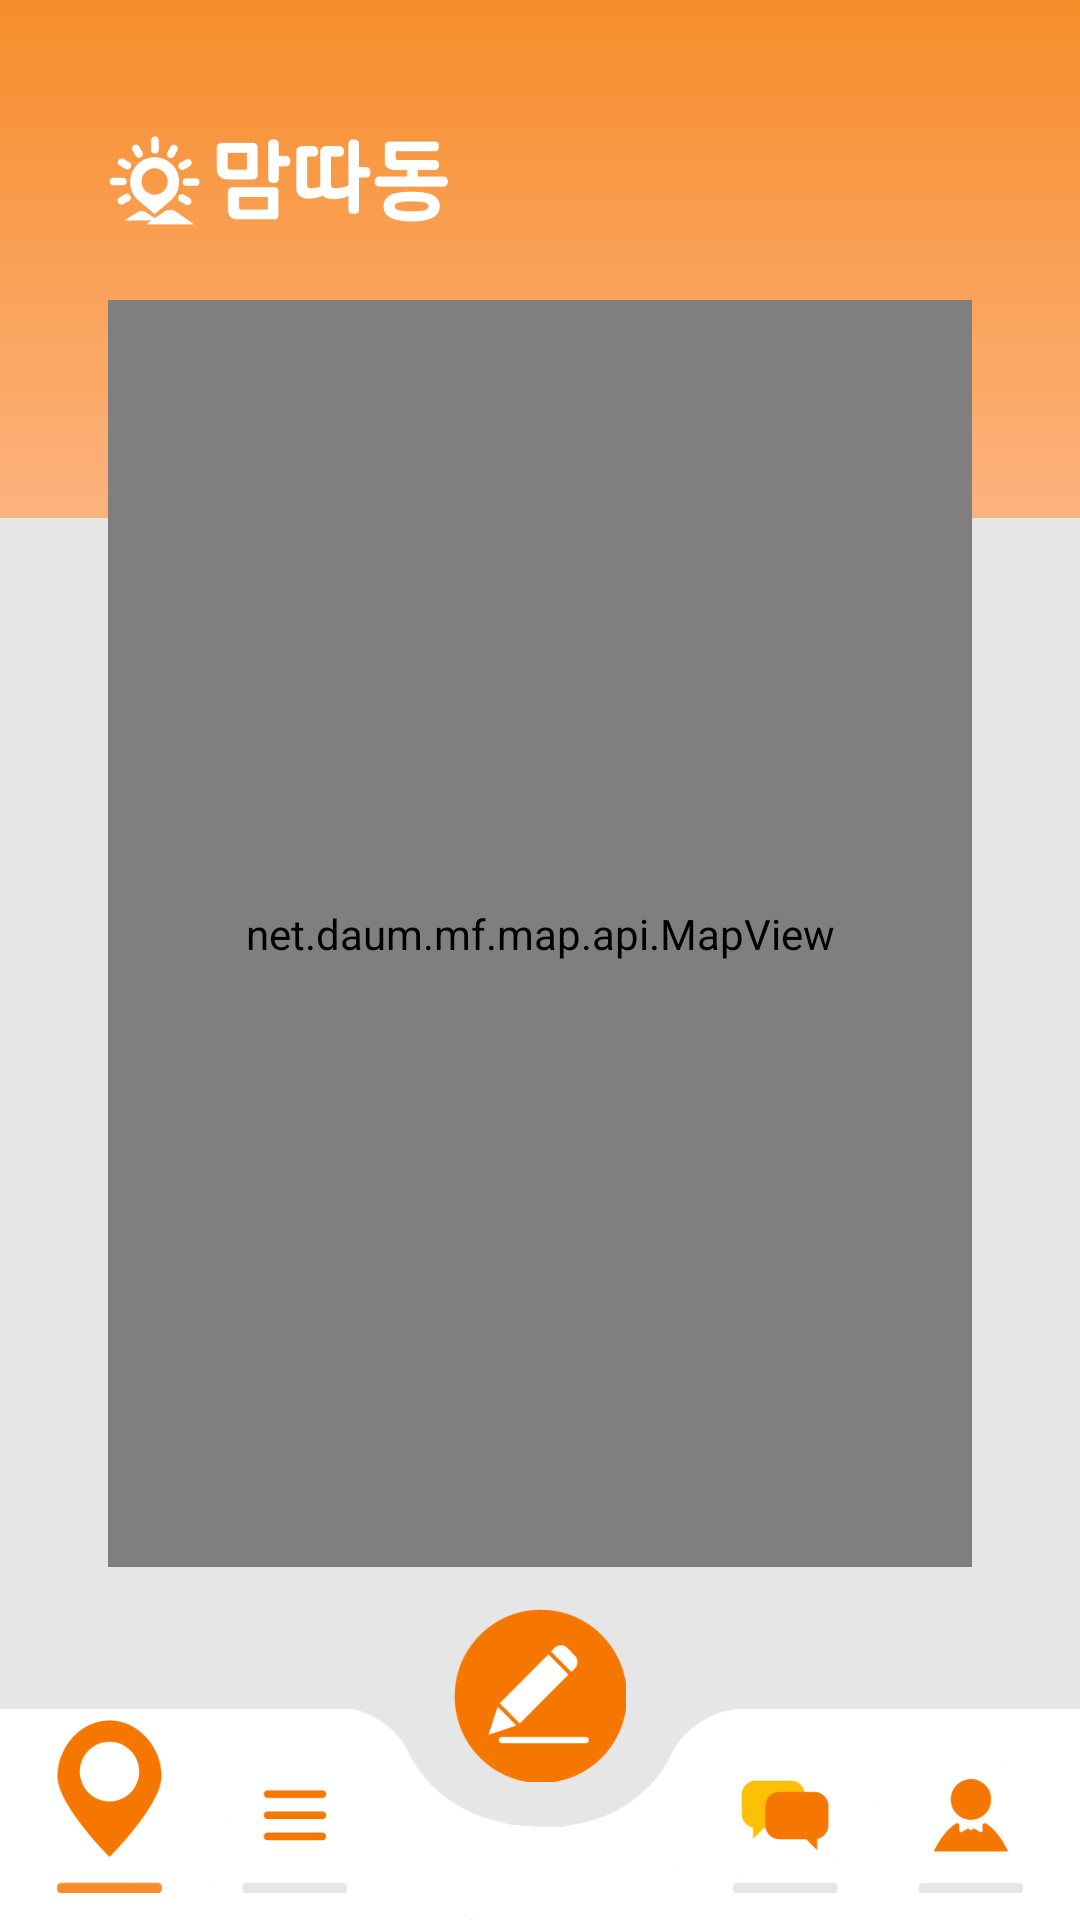

Screen size 1080*1920. Icon name, then its center in pixels as (x=x, y=y):
category: (x=295, y=1841)
chat: (x=785, y=1836)
map: (x=109, y=1806)
profile: (x=971, y=1836)
write: (x=540, y=1695)
